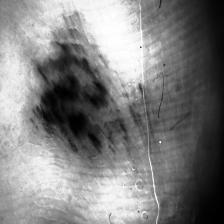Benign Marking or Mole: (28, 30, 135, 150)
